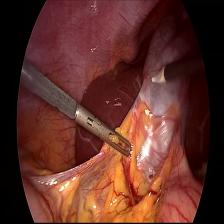Grasper: (78, 100, 134, 160)
Hook: (143, 64, 172, 89)
